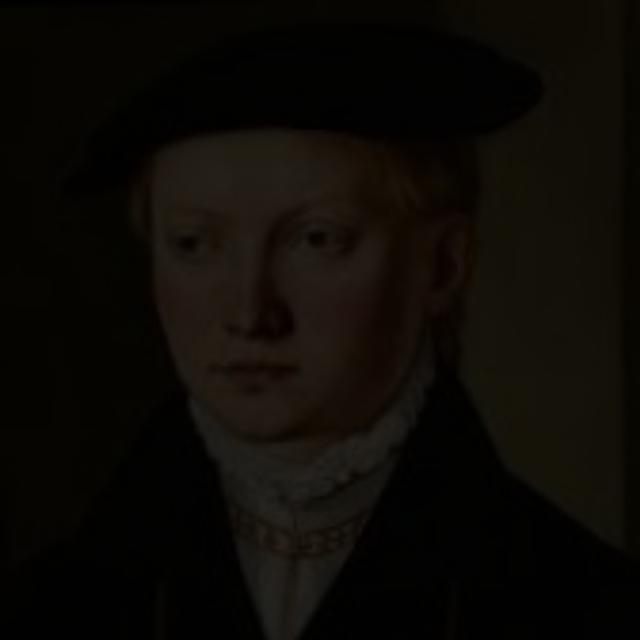Natural: (129, 113, 438, 445)
